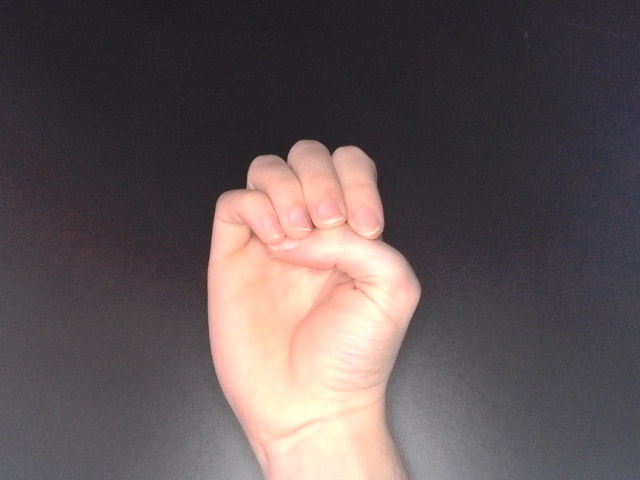e: (202, 136, 425, 452)
